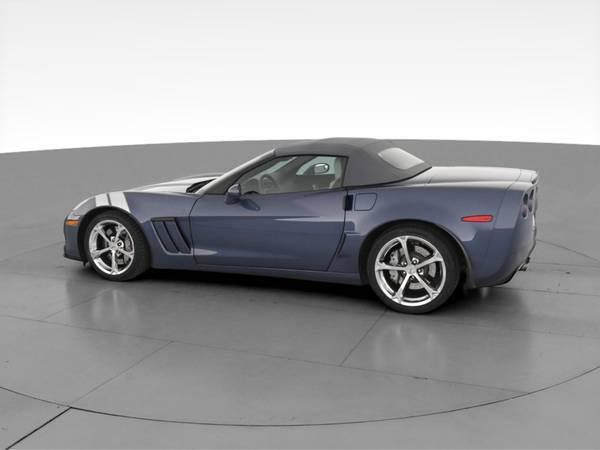Front_Bumper: (64, 217, 84, 262)
Front_Fender: (67, 191, 199, 270)
Front_Left_Door: (190, 188, 348, 281)
Front_Left_Window: (223, 155, 346, 196)
Hood: (115, 174, 216, 195)
Left_Taillight: (520, 188, 539, 222)
Rear_Bumper: (490, 220, 537, 288)
Rear_Fender: (324, 180, 528, 285)
Rear_Windshield: (377, 148, 424, 169)
Roof: (201, 137, 431, 194)
Tailgate: (396, 161, 541, 186)
Wheel: (367, 228, 458, 314), (84, 211, 145, 281)
